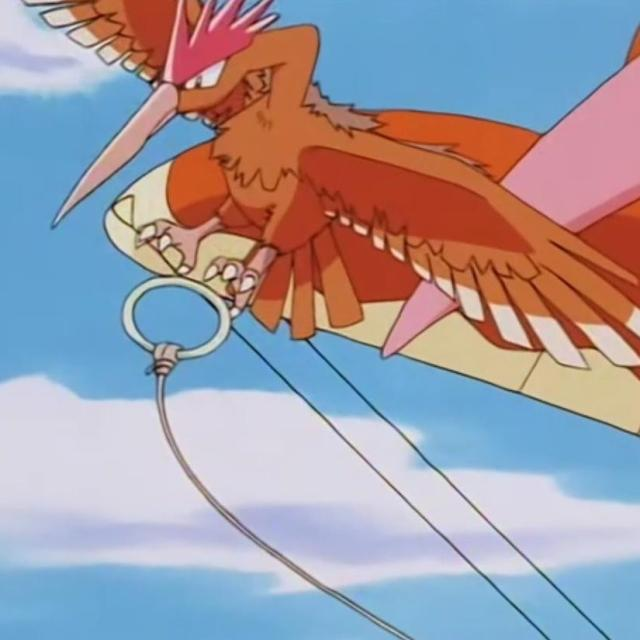Fearow: (139, 0, 454, 282)
